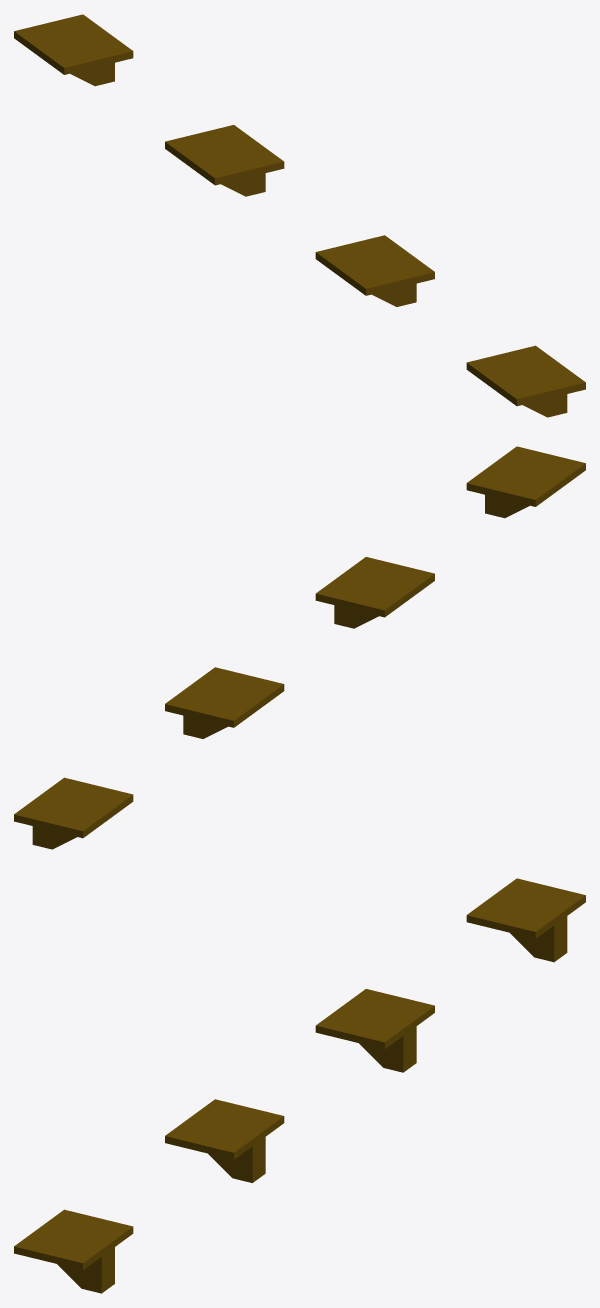
File: rak dinding tempel.fbx
3 views of the same model, one above another, from view 1: azimuth 30°, elevation 25°; view 2: azimuth 150°, elevation 25°; view 3: azimuth 330°, elevation 25° (orthographic).
Parts seen in each view (by area): view 1: Cube.021; view 2: Cube.021; view 3: Cube.021.
Boxes of the visible parts, x1,y1,x2,y2 form: Cube.021: [14, 14, 585, 417]; Cube.021: [14, 446, 585, 849]; Cube.021: [14, 878, 585, 1293].
Size of the model in its own units: 246 by 150 by 3104.
